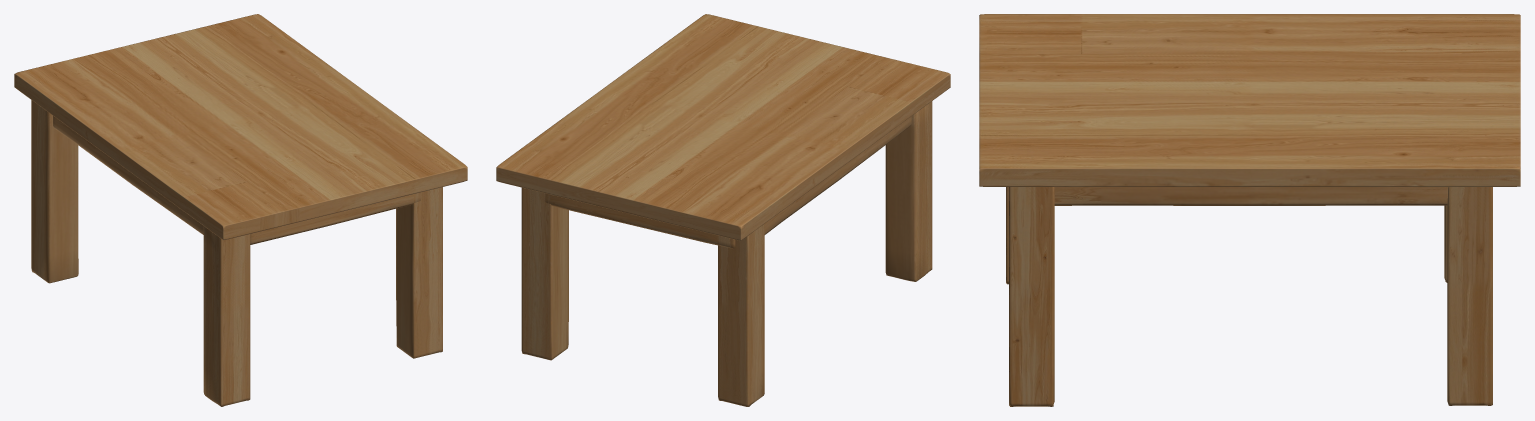
File: wooden+table+3d+model.fbx
3 renders of one model, left to right at view 1: azimuth 30°, elevation 25°; view 2: azimuth 150°, elevation 25°; view 3: azimuth 270°, elevation 25°, orthographic. The views are drawn at different scales.
Visible parts, largest first — view 1: meshes[0]; view 2: meshes[0]; view 3: meshes[0].
Boxes of the visible parts, <box> form: meshes[0]: <box>14,14,467,406</box>; meshes[0]: <box>496,14,950,406</box>; meshes[0]: <box>979,14,1520,406</box>.
Bounding box in the file's own units: 0.6738 × 0.502 × 0.998.
